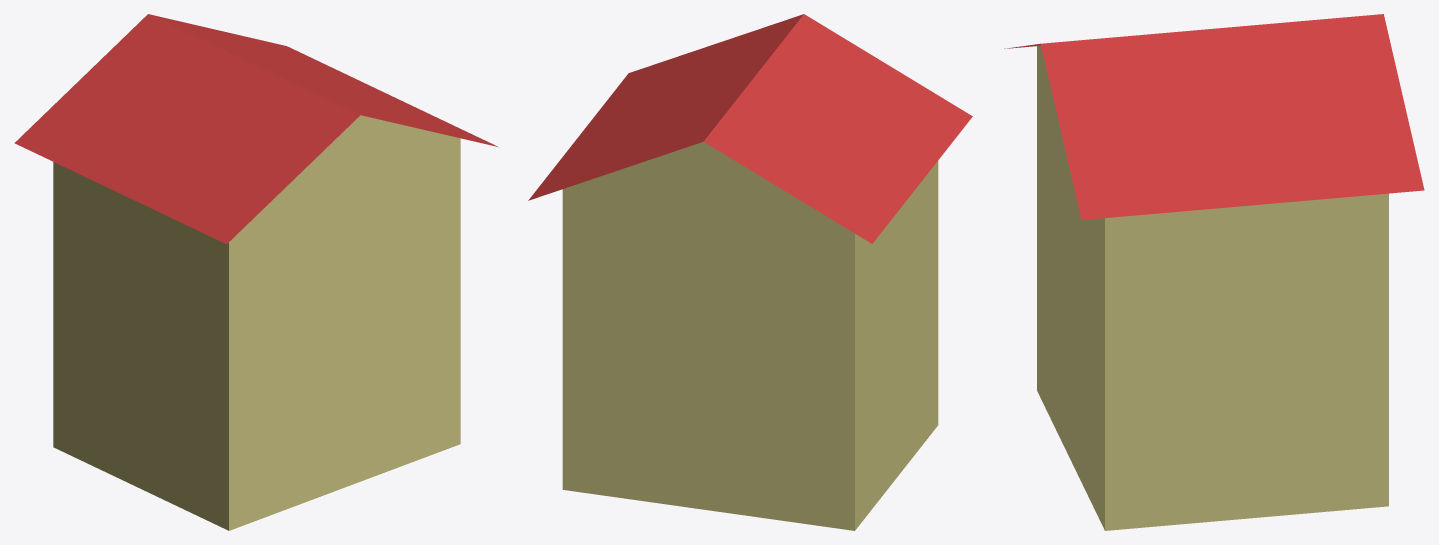
The picture shows the model from 3 angles, left to right: view 1: azimuth 30°, elevation 25°; view 2: azimuth 150°, elevation 25°; view 3: azimuth 270°, elevation 25°; orthographic projection. The views are drawn at different scales.
Bounding box in the file's own units: 11.45 × 10.51 × 11.46.
